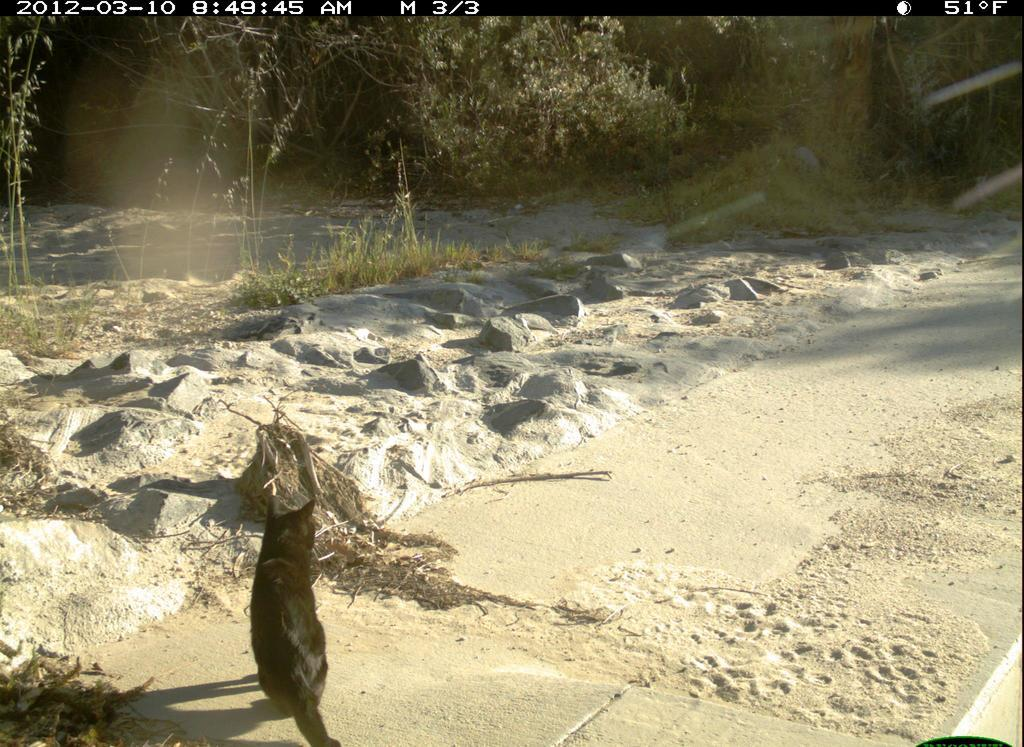cat: (231, 483, 345, 742)
